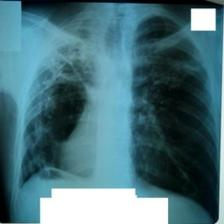tuberculosis: (16, 8, 220, 221)
